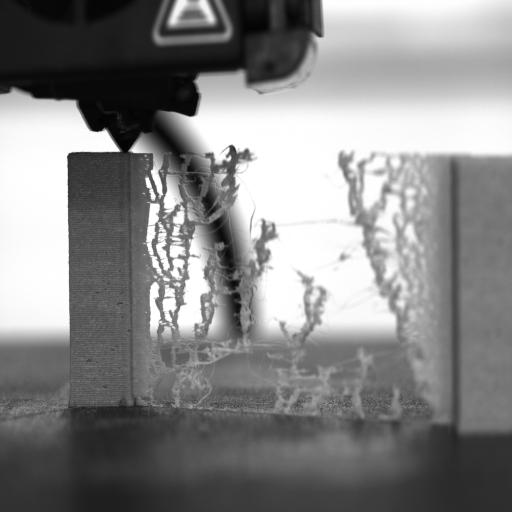spaghetti_and_stringing: (144, 140, 416, 412)
